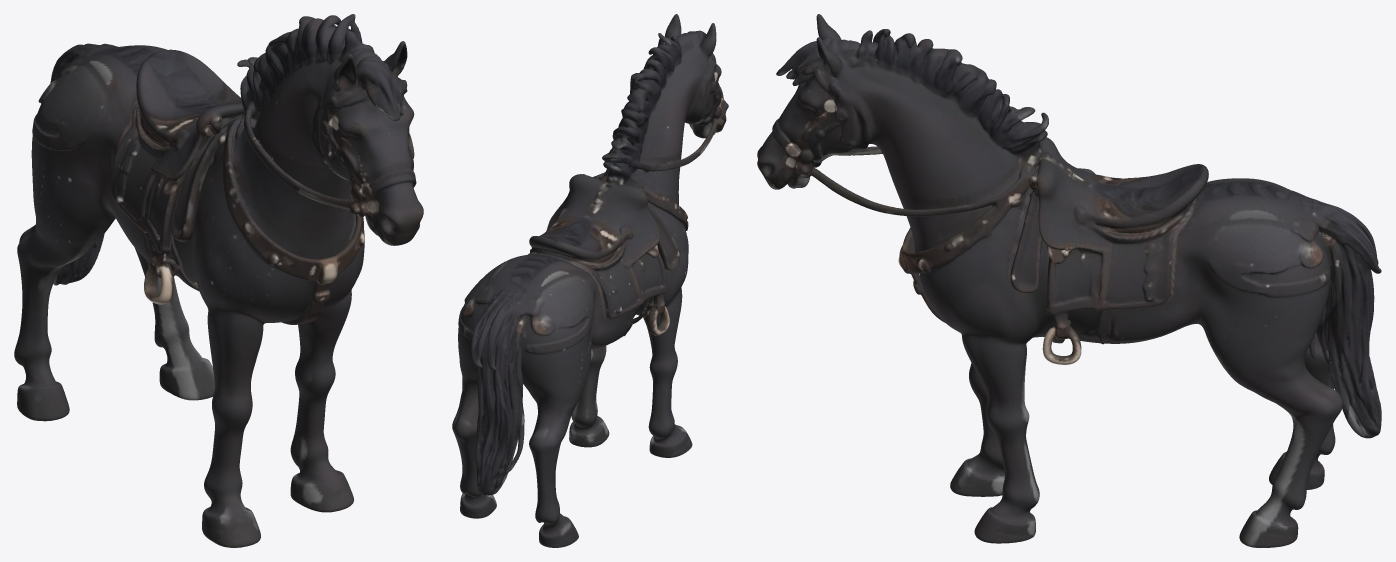
Rendered from kon.glb.
3 views of the same model, side by side, from view 1: azimuth 30°, elevation 25°; view 2: azimuth 150°, elevation 25°; view 3: azimuth 270°, elevation 25° (orthographic). The views are drawn at different scales.
Visible parts, largest first — view 1: tripo_node_3aca49cd-a5e5-4833-92ae-4adefdc4c70d; view 2: tripo_node_3aca49cd-a5e5-4833-92ae-4adefdc4c70d; view 3: tripo_node_3aca49cd-a5e5-4833-92ae-4adefdc4c70d.
Part boxes in pixels (x1,y1,x2,y2): tripo_node_3aca49cd-a5e5-4833-92ae-4adefdc4c70d: (14, 14, 423, 547); tripo_node_3aca49cd-a5e5-4833-92ae-4adefdc4c70d: (452, 14, 728, 547); tripo_node_3aca49cd-a5e5-4833-92ae-4adefdc4c70d: (757, 14, 1381, 547).
Bounding box in the file's own units: 0.3085 × 0.8646 × 1.
Materials: 1 (1 with a texture image).
